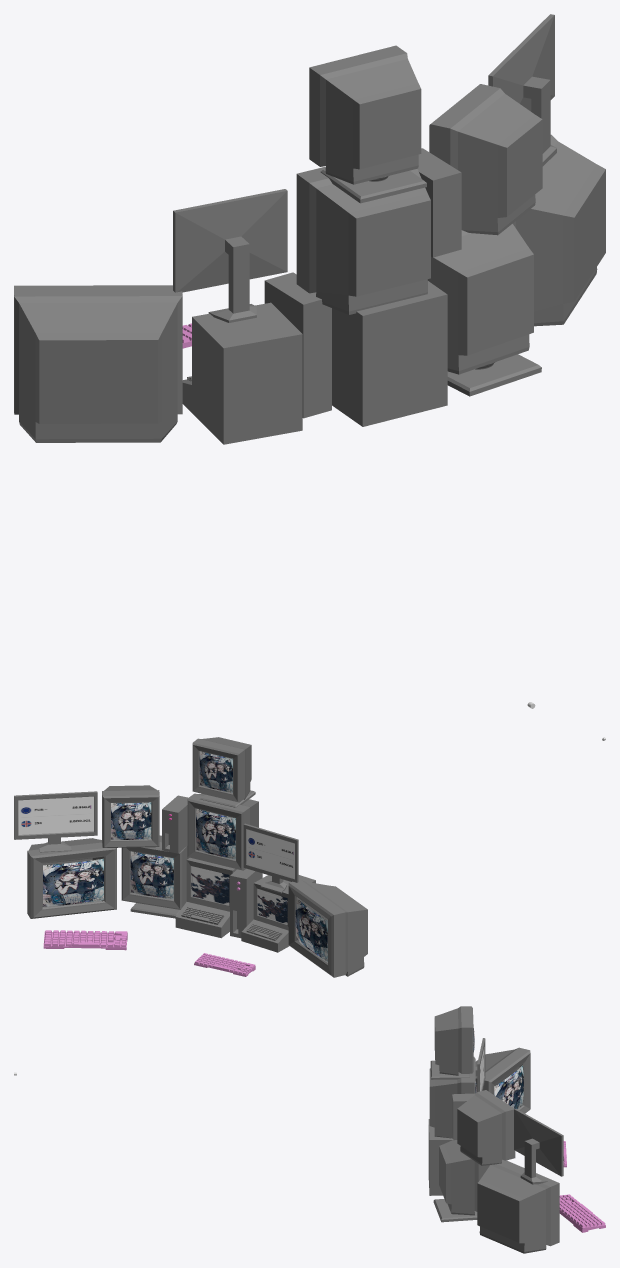
Rendered from computerwall.glb.
3 views of the same model, one above another, from view 1: azimuth 30°, elevation 25°; view 2: azimuth 150°, elevation 25°; view 3: azimuth 270°, elevation 25° (orthographic). The views are drawn at different scales.
Visible parts, largest first — view 1: Cube.016, Cube.007, Cylinder.003, Cylinder, Cube.013, Cube.003, Cube.015, Cube.010, Cube.005, Cube.004, Cube.012, Cube.001; view 2: Cube.016, Cube.010, Cube.003, Cube.011, Cylinder.003, Cube.013, Cube.009, Cylinder, Cube.007, Cube.015, Cube.002, Cube.006 (+10 smaller); view 3: Cube.010, Cube.015, Cylinder, Cylinder.003, Cube.012, Cube.007, Cube.016, Plane.001, Cube.003, Cube.017, Cube.001.
Part boxes in pixels (x1,y1,x2,y2): Cube.016: [14, 285, 182, 442]; Cube.007: [296, 166, 430, 314]; Cylinder.003: [309, 45, 426, 203]; Cylinder: [427, 224, 541, 396]; Cube.013: [182, 302, 302, 444]; Cube.003: [332, 281, 447, 426]; Cube.015: [429, 84, 542, 235]; Cube.010: [512, 134, 605, 326]; Cube.005: [173, 189, 287, 322]; Cube.004: [264, 272, 331, 418]; Cube.012: [488, 14, 556, 166]; Cube.001: [417, 148, 461, 257]; Cube.016: [288, 879, 367, 977]; Cube.010: [27, 838, 116, 918]; Cube.003: [175, 851, 236, 938]; Cube.011: [18, 796, 93, 834]; Cylinder.003: [192, 737, 255, 807]; Cube.013: [241, 875, 315, 952]; Cube.009: [42, 858, 103, 906]; Cylinder: [121, 835, 189, 918]; Cube.007: [187, 793, 258, 870]; Cube.015: [102, 785, 159, 847]; Cube.002: [130, 851, 173, 899]; Cube.006: [246, 829, 294, 878]; Cube.010: [477, 1159, 559, 1253]; Cube.015: [457, 1090, 515, 1165]; Cylinder: [433, 1140, 489, 1222]; Cylinder.003: [430, 1006, 473, 1079]; Cube.012: [514, 1108, 563, 1184]; Cube.007: [429, 1057, 475, 1138]; Cube.016: [475, 1047, 530, 1113]; Plane.001: [559, 1194, 605, 1232]; Cube.003: [428, 1119, 453, 1195]; Cube.017: [494, 1065, 523, 1108]; Cube.001: [452, 1093, 475, 1140].
Size of the model in its own units: 14.88 by 7.86 by 25.32.
14 materials, 10 textured.
